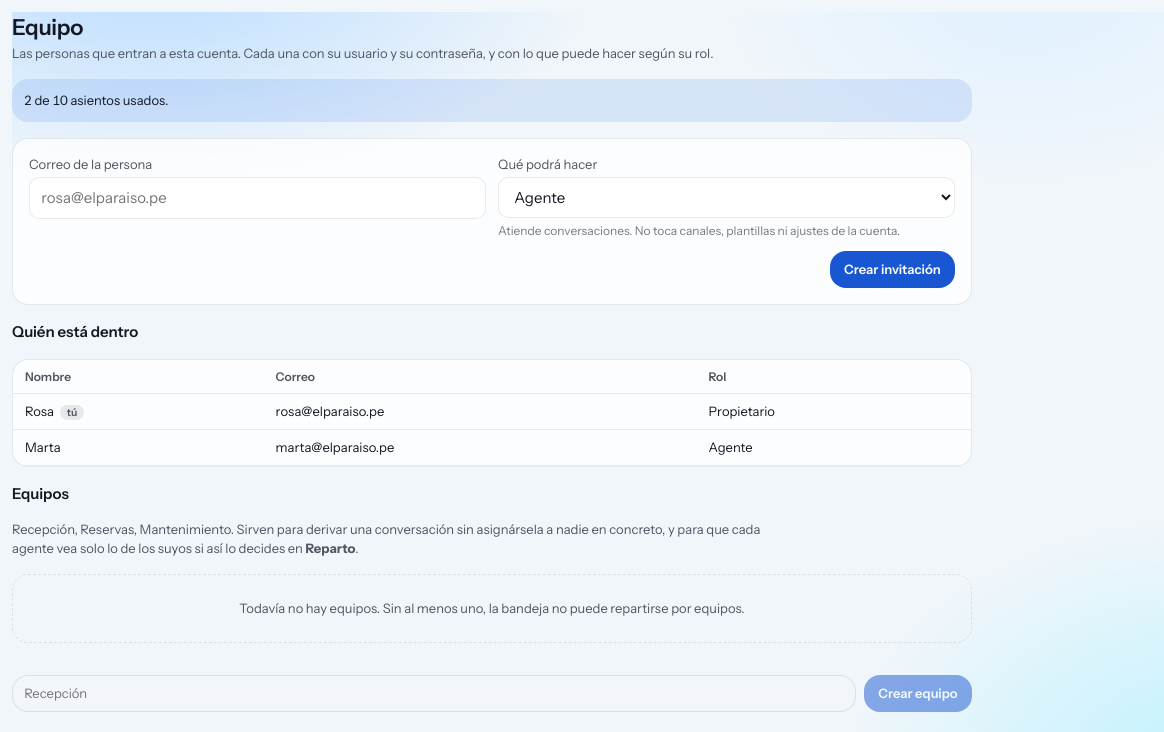
Equipo › cada rol explica qué abre: elegir a ciegas no es elegir
expect the text "Rosa" is shown: met, box [25,403,54,419]
expect the text "No toca canales, plantillas ni ajustes" is shown: met, box [498,223,900,238]
Step 1. Select "Administrador" in the dropdown labelled "Qué podrá hacer" → (726, 198), box [498,177,955,218]
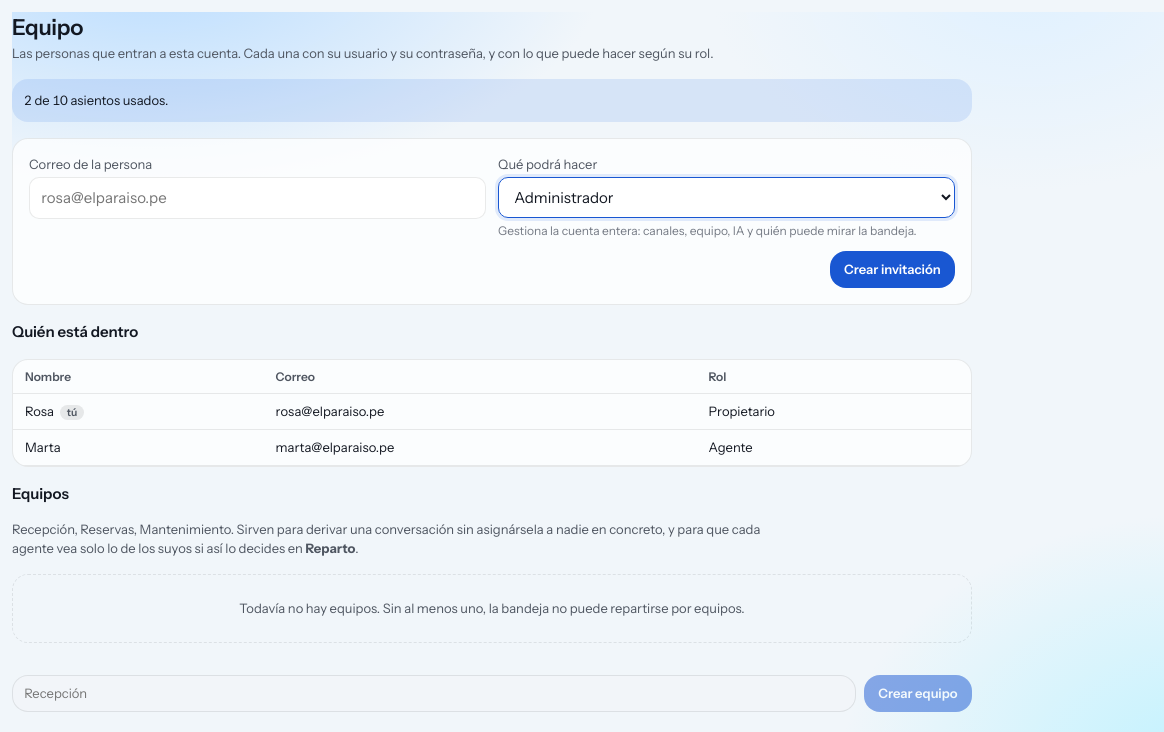
expect the text "Gestiona la cuenta entera" is shown: met, box [498,223,917,238]
